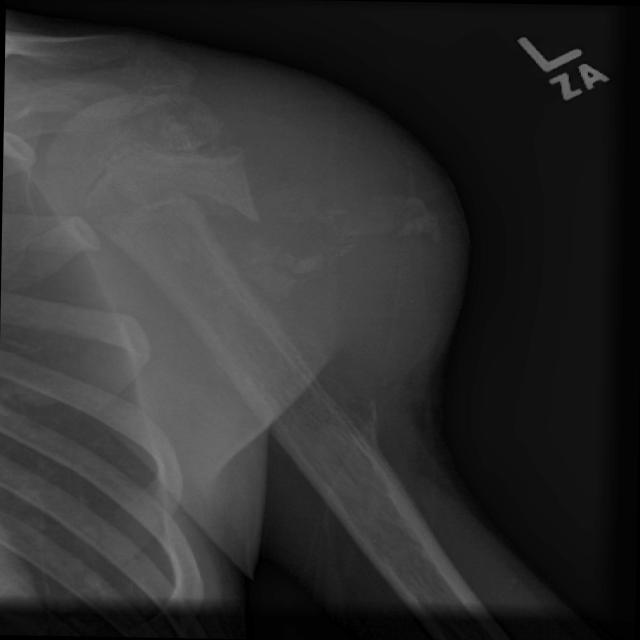shoulder fracture: (142, 142, 293, 255)
